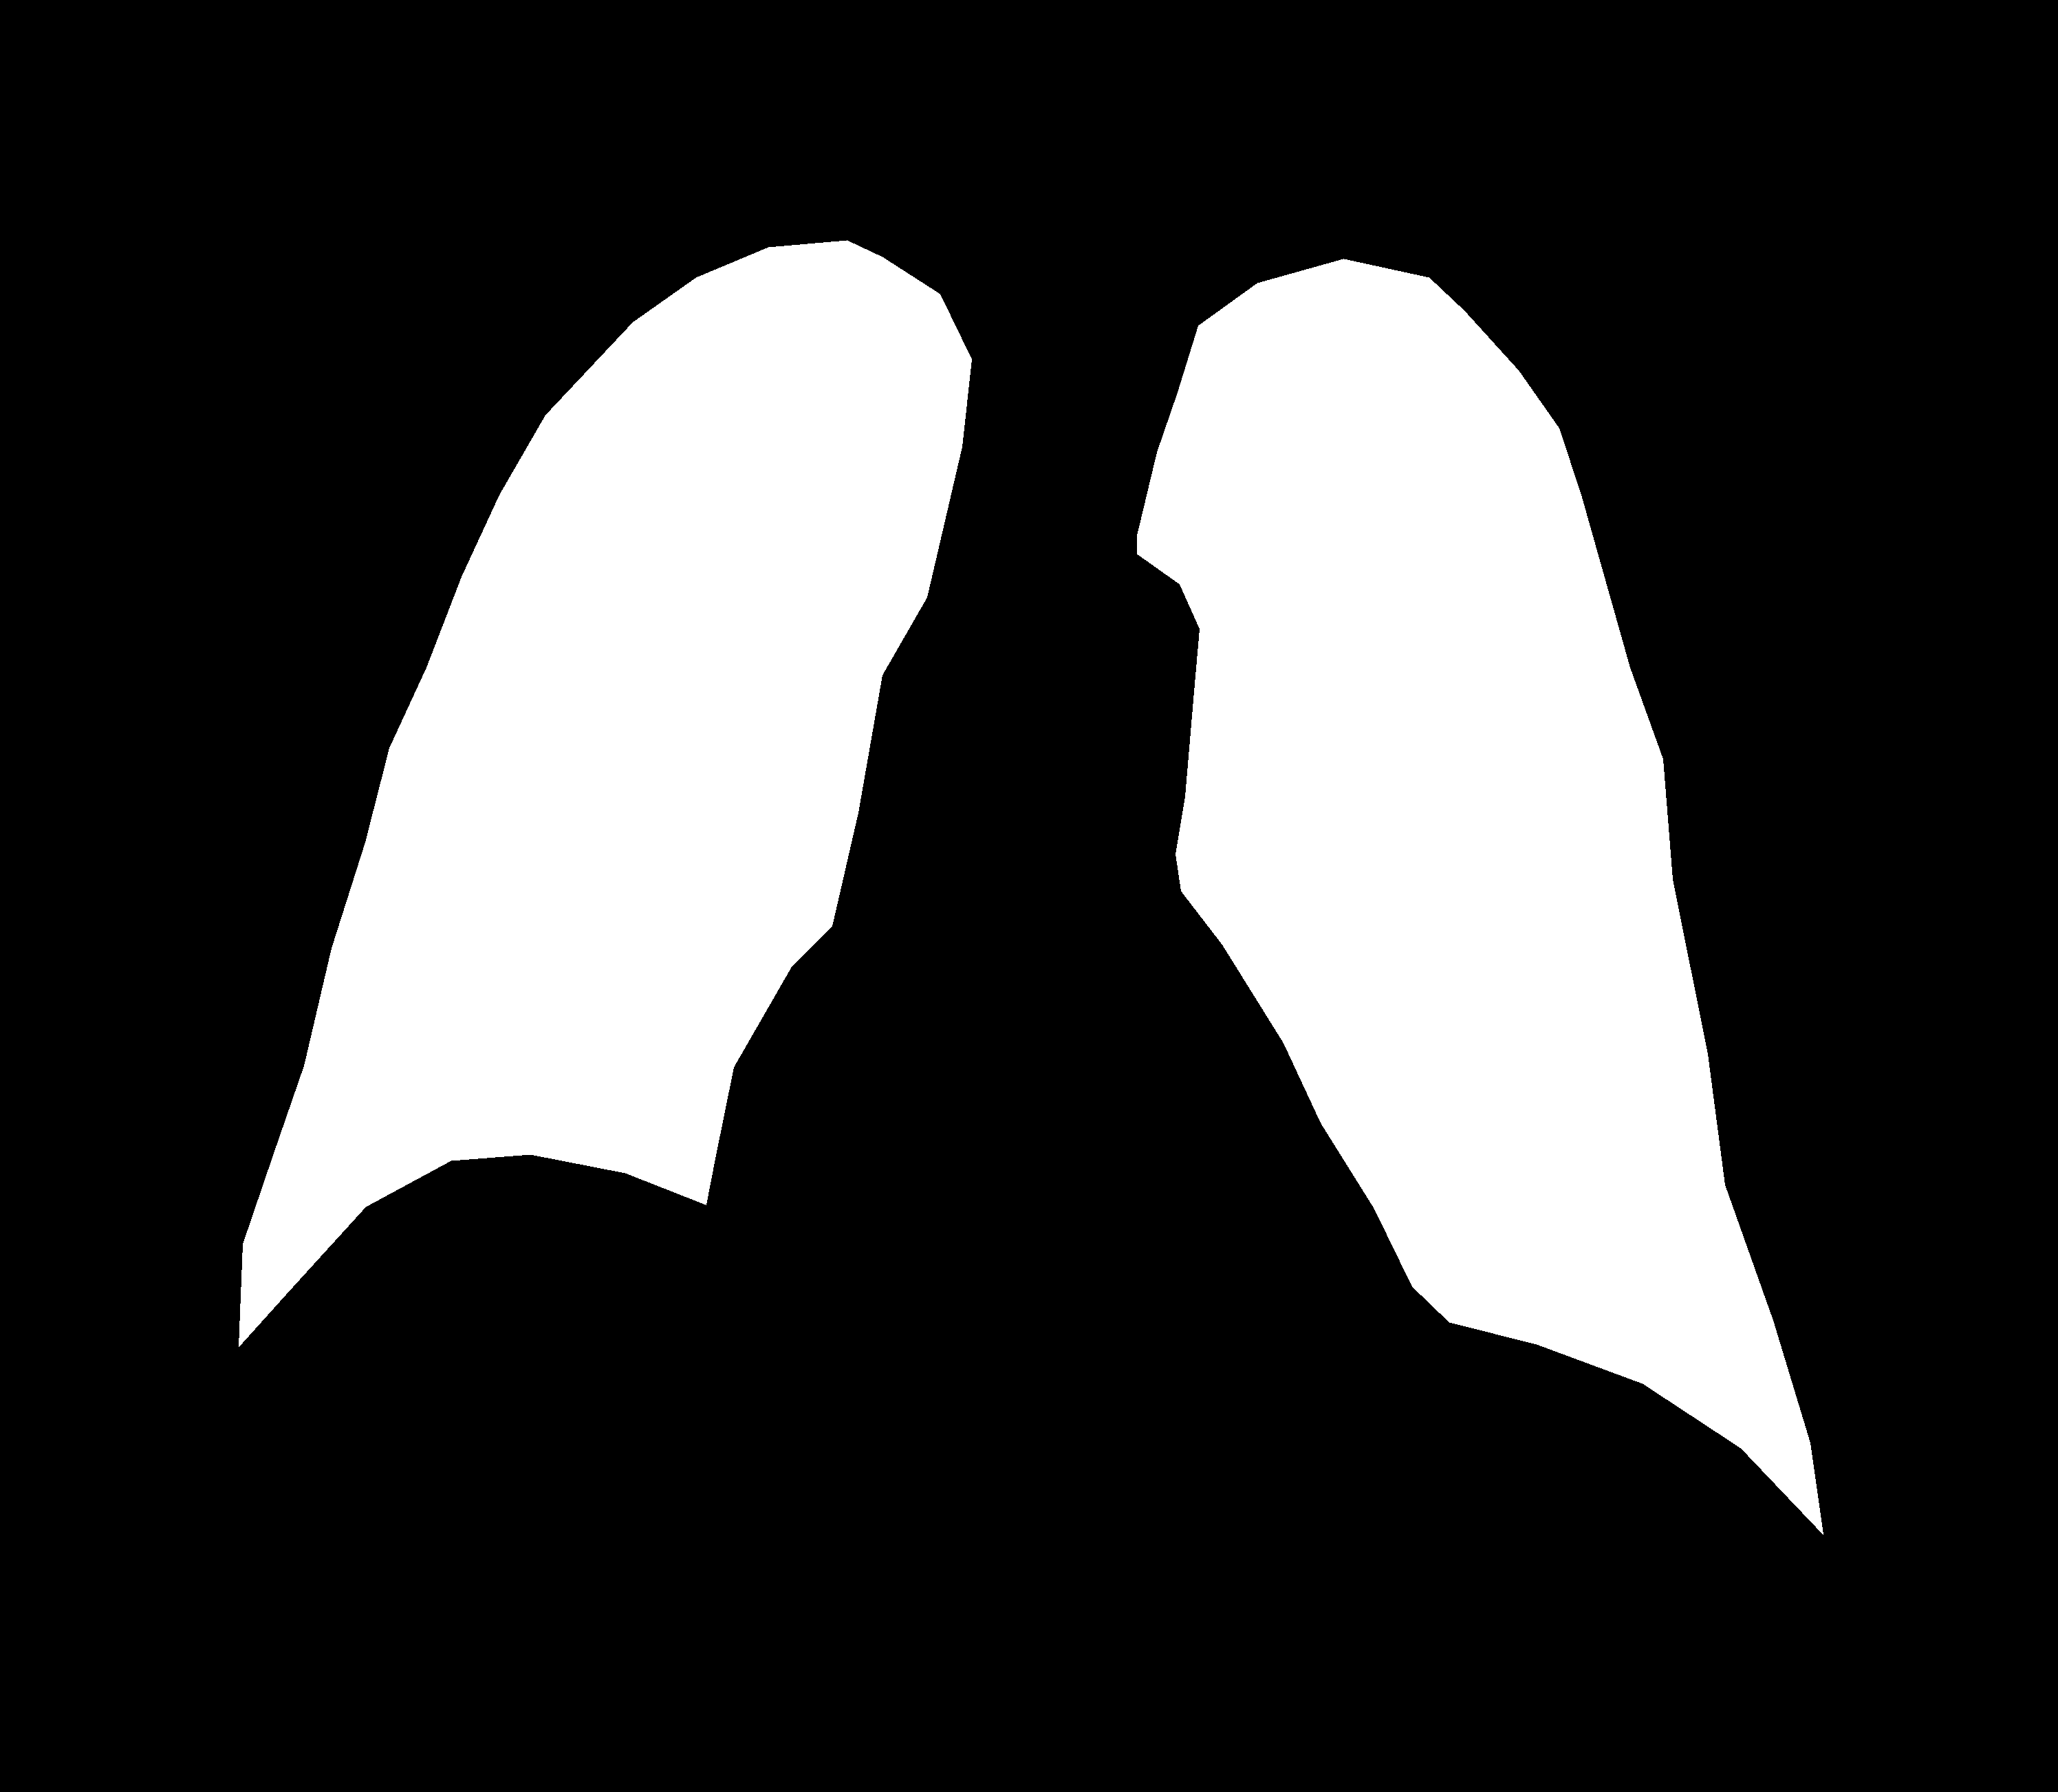heart: (707, 730, 1423, 1381)
left_lung: (238, 240, 971, 1346)
right_lung: (1137, 259, 1824, 1535)
